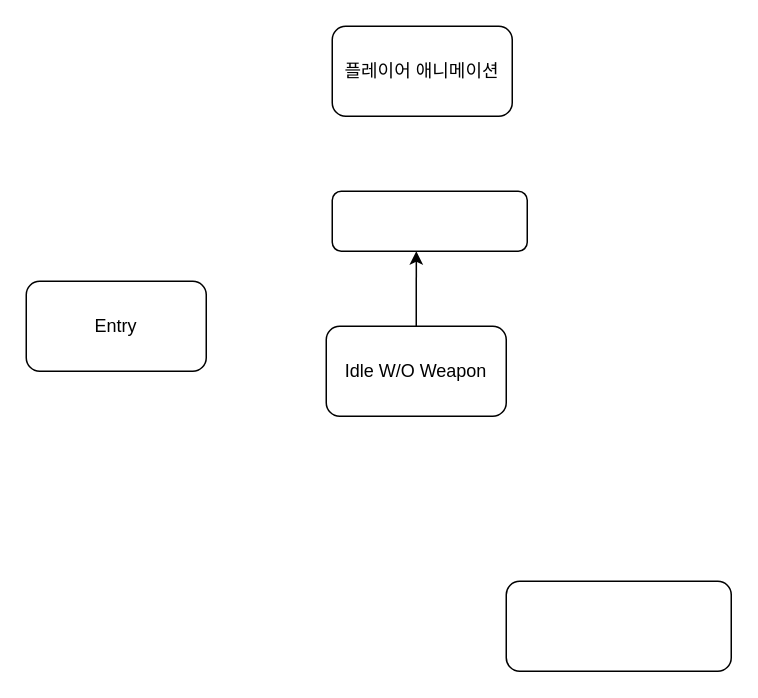
The diagram is 758 pixels wide and 698 high, and some of its shapes have lost their labels. Each missing label, with the centre of its shape:
"Attack Riffle, ShotGun, Pistol" belongs at [618,625].
"Walk w/o weapon" belongs at [429,220].
